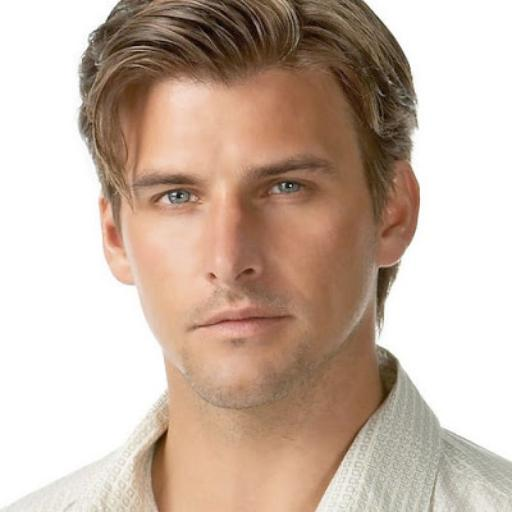left_eye: (260, 178, 322, 203)
left_lip_corner: (271, 308, 300, 329)
right_eye: (148, 187, 205, 212)
right_lip_corner: (186, 320, 209, 339)
